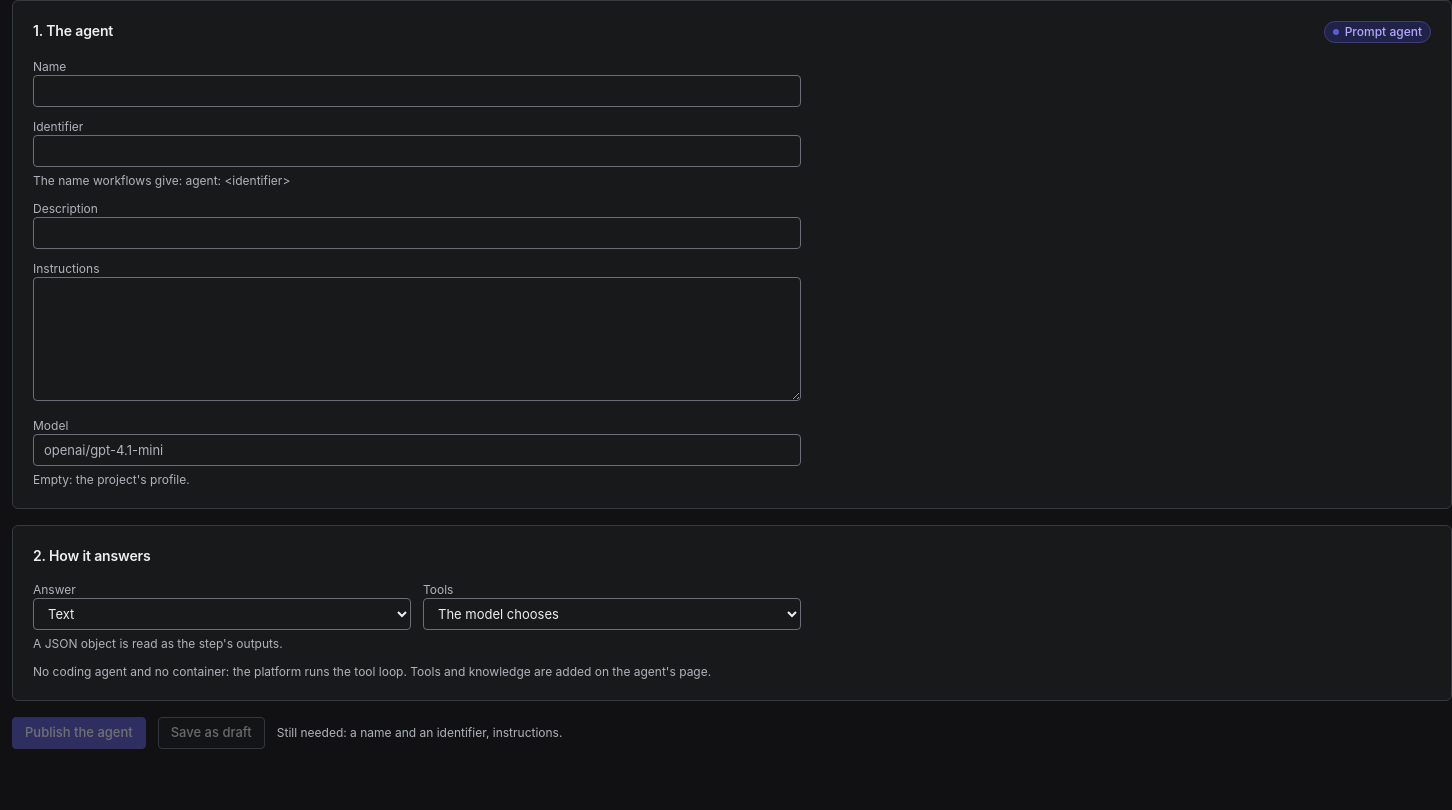
a prompt agent › is not sent with an identifier the API would refuse
Type "Triager" into the field labelled "Name" at (417, 91), box [33,75,801,107]
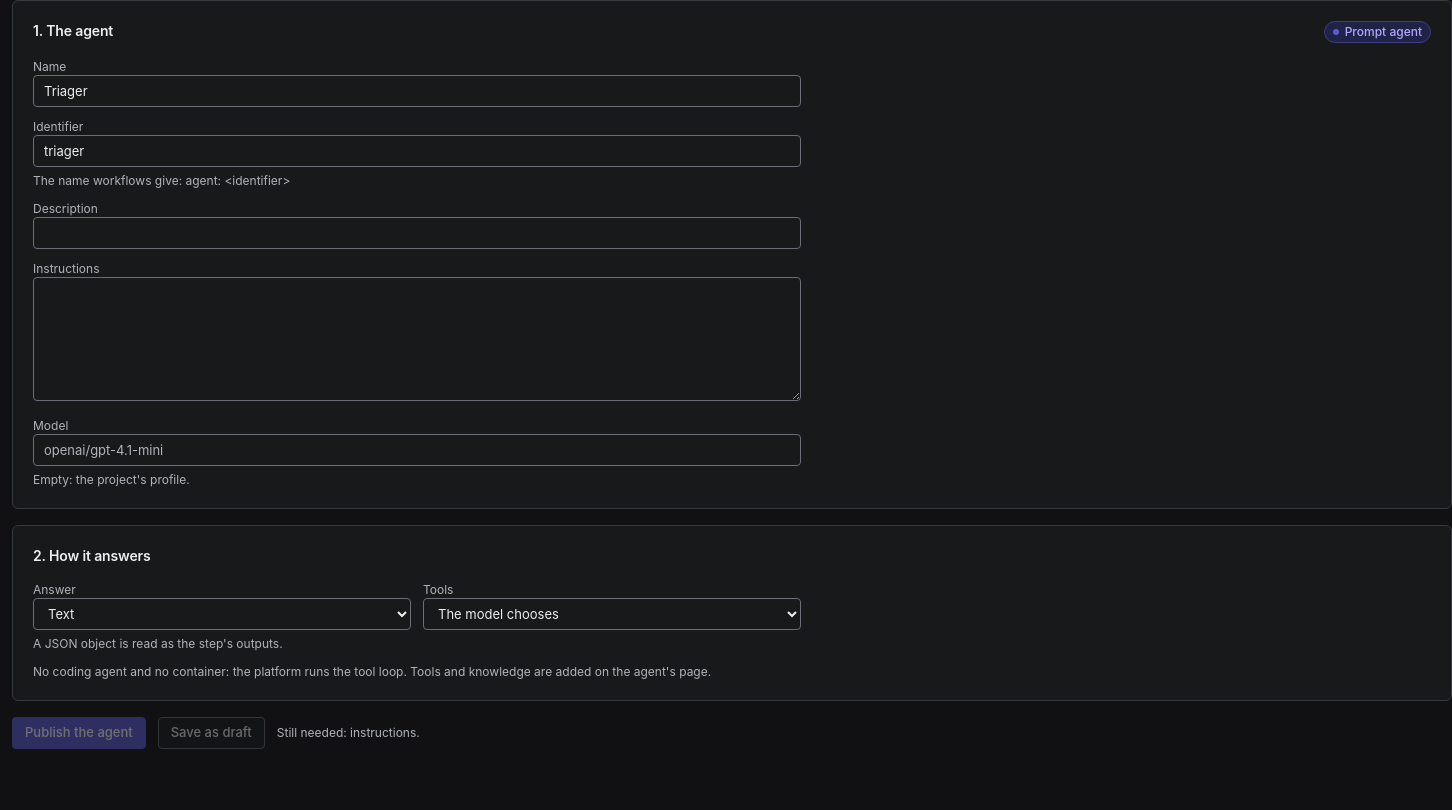
Type "Sort the incoming issues." into the text box labelled "Instructions" at (417, 339), box [33,277,801,401]
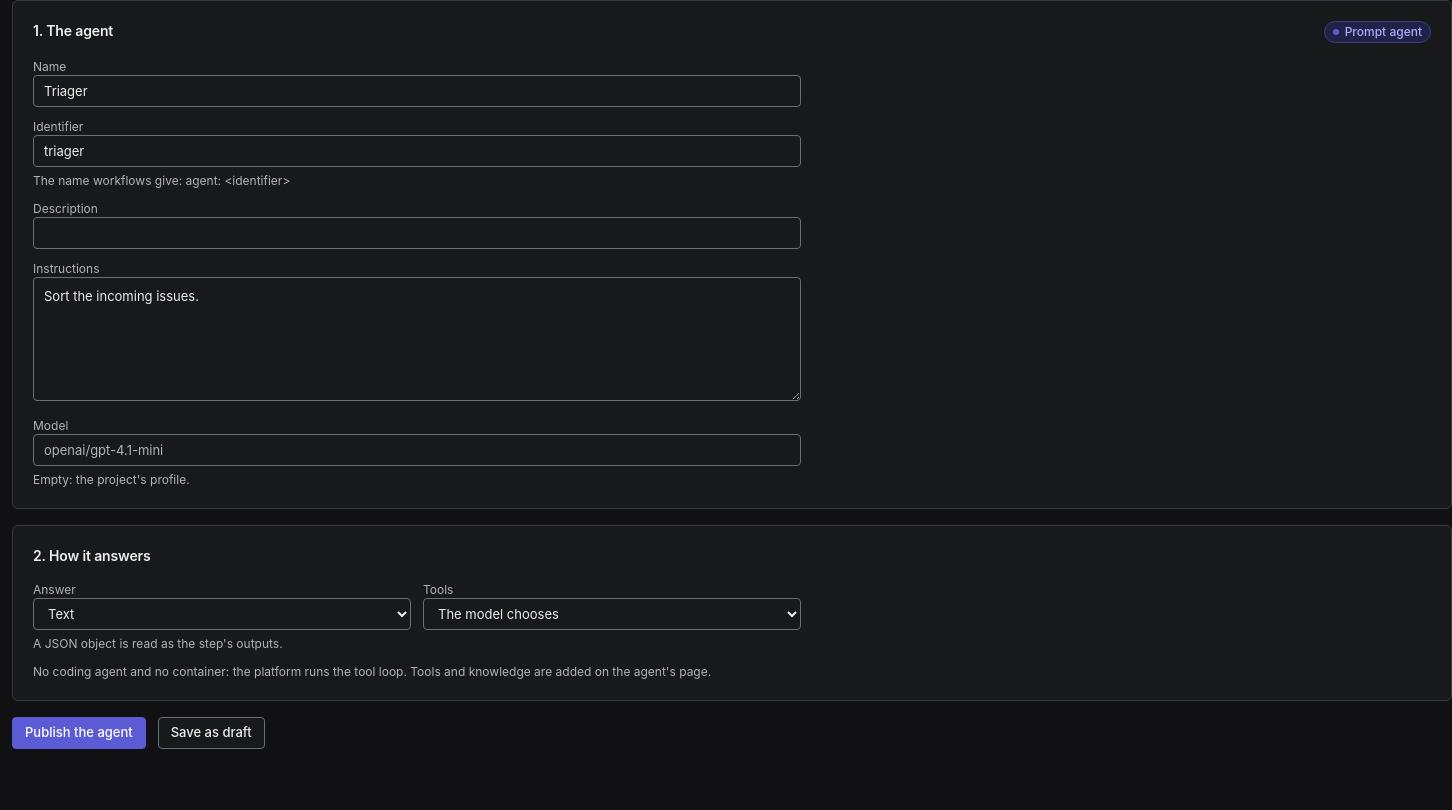
Replace the text in the field labelled "Identifier" with "Triager_1" at (417, 151), box [33,135,801,167]
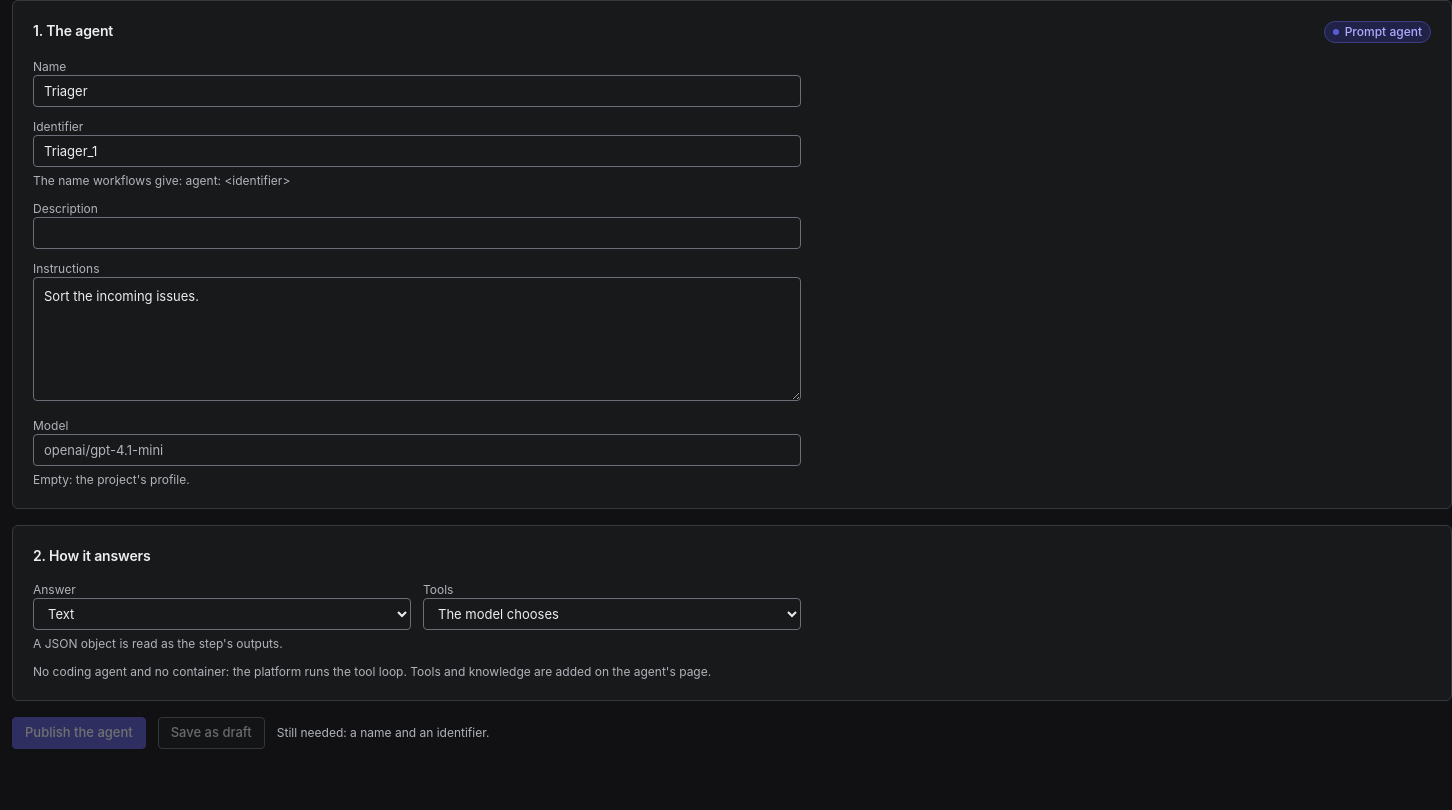
Expected: the button "Publish the agent" is disabled, [12,717,146,749]
Expected: the text with test id "missing" shows "an identifier", [350,725,486,740]
